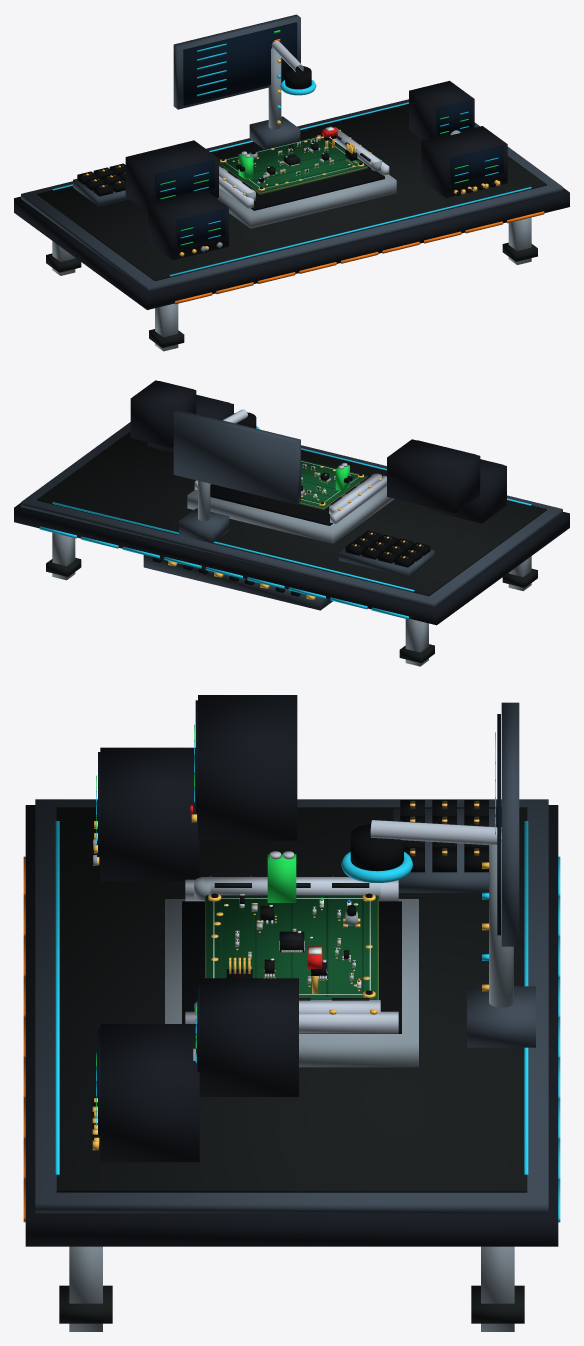
The model's file is L94_BoardFoundry_CompleteShowcase.fbx.
3 views of the same model, one above another, from view 1: azimuth 30°, elevation 25°; view 2: azimuth 150°, elevation 25°; view 3: azimuth 270°, elevation 25° (orthographic). The views are drawn at different scales.
Visible parts, largest first — view 1: L94_AntiStaticWorkSurface, L94_AssemblyBenchFrame, L94_PCBAssemblySCADAPanel, L94_PrecisionFixtureBase, L94_FourChannelLogicAnalyzer, L94_BenchOscilloscope, L94_ProtectedBenchPowerSupply, L94_TopGreenSoldermask, L94_BenchDigitalMultimeter, L94_InspectionMicroscopeArm, L94_ComponentRepairTray, L94_MicroscopeLensAndRingLight_Part_0000 (+2 smaller); view 2: L94_AntiStaticWorkSurface, L94_AssemblyBenchFrame, L94_PCBAssemblySCADAPanel, L94_PrecisionFixtureBase, L94_BenchOscilloscope, L94_BenchDigitalMultimeter, L94_ComponentRepairTray, L94_ProtectedBenchPowerSupply, L94_InspectionMicroscopeArm, L94_TopGreenSoldermask, L94_FourChannelLogicAnalyzer, L94_FixtureClampLeft_Part_0000; view 3: L94_AntiStaticWorkSurface, L94_AssemblyBenchFrame, L94_PrecisionFixtureBase, L94_BenchOscilloscope, L94_FourChannelLogicAnalyzer, L94_ProtectedBenchPowerSupply, L94_TopGreenSoldermask, L94_BenchDigitalMultimeter, L94_InspectionMicroscopeArm, L94_ComponentRepairTray, L94_PCBAssemblySCADAPanel, L94_InspectionMicroscopeArm_Part_0002 (+5 smaller).
Part boxes in pixels (left/top/right/bottom): L94_AntiStaticWorkSurface: left=21, top=99, right=562, bottom=292; L94_AssemblyBenchFrame: left=14, top=187, right=569, bottom=351; L94_PCBAssemblySCADAPanel: left=173, top=14, right=300, bottom=109; L94_PrecisionFixtureBase: left=217, top=127, right=396, bottom=228; L94_FourChannelLogicAnalyzer: left=421, top=126, right=507, bottom=197; L94_BenchOscilloscope: left=125, top=140, right=218, bottom=212; L94_ProtectedBenchPowerSupply: left=148, top=190, right=228, bottom=260; L94_TopGreenSoldermask: left=219, top=136, right=366, bottom=192; L94_BenchDigitalMultimeter: left=409, top=80, right=474, bottom=140; L94_InspectionMicroscopeArm: left=249, top=48, right=300, bottom=149; L94_ComponentRepairTray: left=73, top=163, right=128, bottom=206; L94_MicroscopeLensAndRingLight_Part_0000: left=285, top=66, right=311, bottom=89; L94_AntiStaticWorkSurface: left=21, top=422, right=562, bottom=607; L94_AssemblyBenchFrame: left=14, top=503, right=569, bottom=666; L94_PCBAssemblySCADAPanel: left=173, top=409, right=300, bottom=504; L94_PrecisionFixtureBase: left=187, top=475, right=394, bottom=543; L94_BenchOscilloscope: left=387, top=439, right=480, bottom=513; L94_BenchDigitalMultimeter: left=130, top=380, right=196, bottom=447; L94_ComponentRepairTray: left=339, top=530, right=434, bottom=577; L94_ProtectedBenchPowerSupply: left=426, top=459, right=506, bottom=523; L94_InspectionMicroscopeArm: left=179, top=481, right=229, bottom=543; L94_TopGreenSoldermask: left=300, top=460, right=366, bottom=507; L94_FourChannelLogicAnalyzer: left=147, top=394, right=233, bottom=452; L94_FixtureClampLeft_Part_0000: left=329, top=474, right=380, bottom=514; L94_AntiStaticWorkSurface: left=35, top=799, right=548, bottom=1213; L94_AssemblyBenchFrame: left=23, top=805, right=560, bottom=1331; L94_PrecisionFixtureBase: left=165, top=876, right=418, bottom=1067; L94_BenchOscilloscope: left=190, top=695, right=297, bottom=840; L94_FourChannelLogicAnalyzer: left=92, top=1024, right=199, bottom=1162; L94_ProtectedBenchPowerSupply: left=94, top=747, right=199, bottom=881; L94_TopGreenSoldermask: left=206, top=895, right=377, bottom=999; L94_BenchDigitalMultimeter: left=195, top=978, right=298, bottom=1096; L94_InspectionMicroscopeArm: left=467, top=839, right=535, bottom=1047; L94_ComponentRepairTray: left=393, top=800, right=496, bottom=892; L94_PCBAssemblySCADAPanel: left=495, top=702, right=519, bottom=946; L94_InspectionMicroscopeArm_Part_0002: left=370, top=820, right=501, bottom=845.
Bounding box in the file's own units: 550 × 242 × 302.
